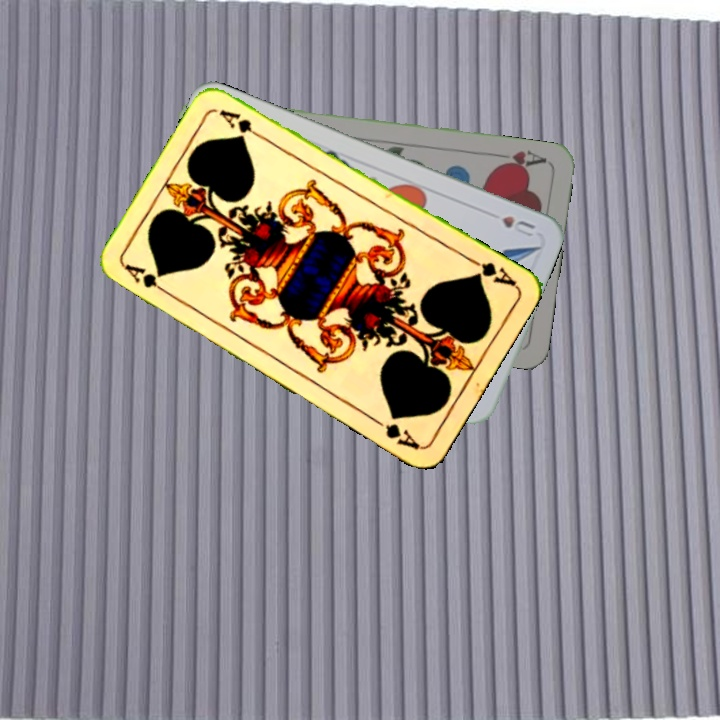GA: (120, 259, 173, 299), (464, 253, 519, 290)
HA: (490, 146, 550, 173)
HU: (497, 211, 538, 239)
